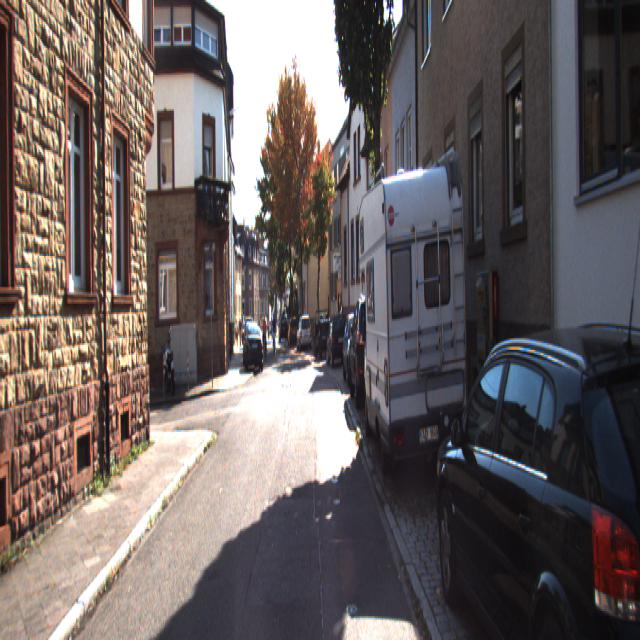Car: (436, 309, 640, 638), (355, 130, 476, 496), (348, 286, 389, 409), (341, 302, 373, 384), (311, 311, 334, 364), (326, 313, 347, 370), (245, 323, 264, 373), (296, 317, 312, 353)
